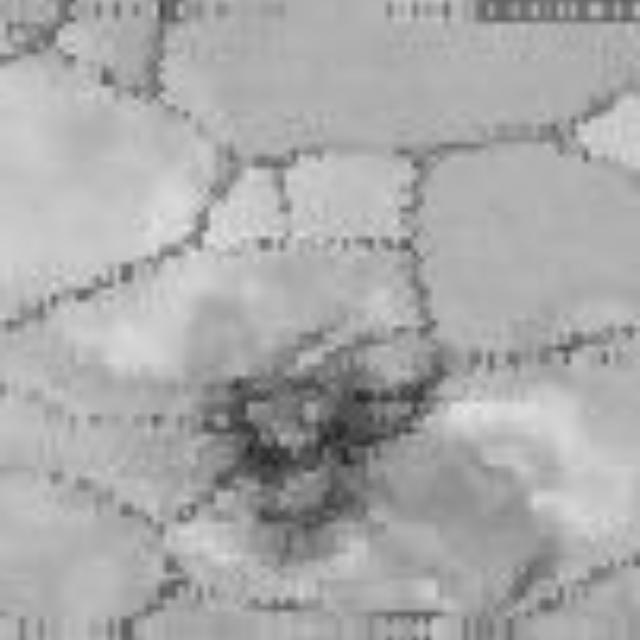good_void: (194, 309, 457, 540)
